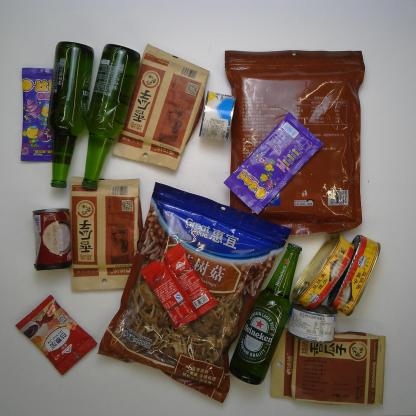Alcohol: (230, 242, 302, 386), (82, 42, 142, 191), (48, 40, 94, 189)
Candy: (224, 112, 326, 216), (18, 65, 70, 164)
Canned Food: (291, 233, 356, 313), (326, 234, 382, 317), (31, 207, 75, 270), (198, 90, 238, 142), (286, 304, 339, 342)
Dried Food: (97, 180, 294, 407), (223, 48, 365, 238), (112, 43, 211, 172), (268, 328, 387, 406), (69, 176, 145, 293)
Instant Drink: (140, 243, 218, 330), (16, 294, 97, 374)
